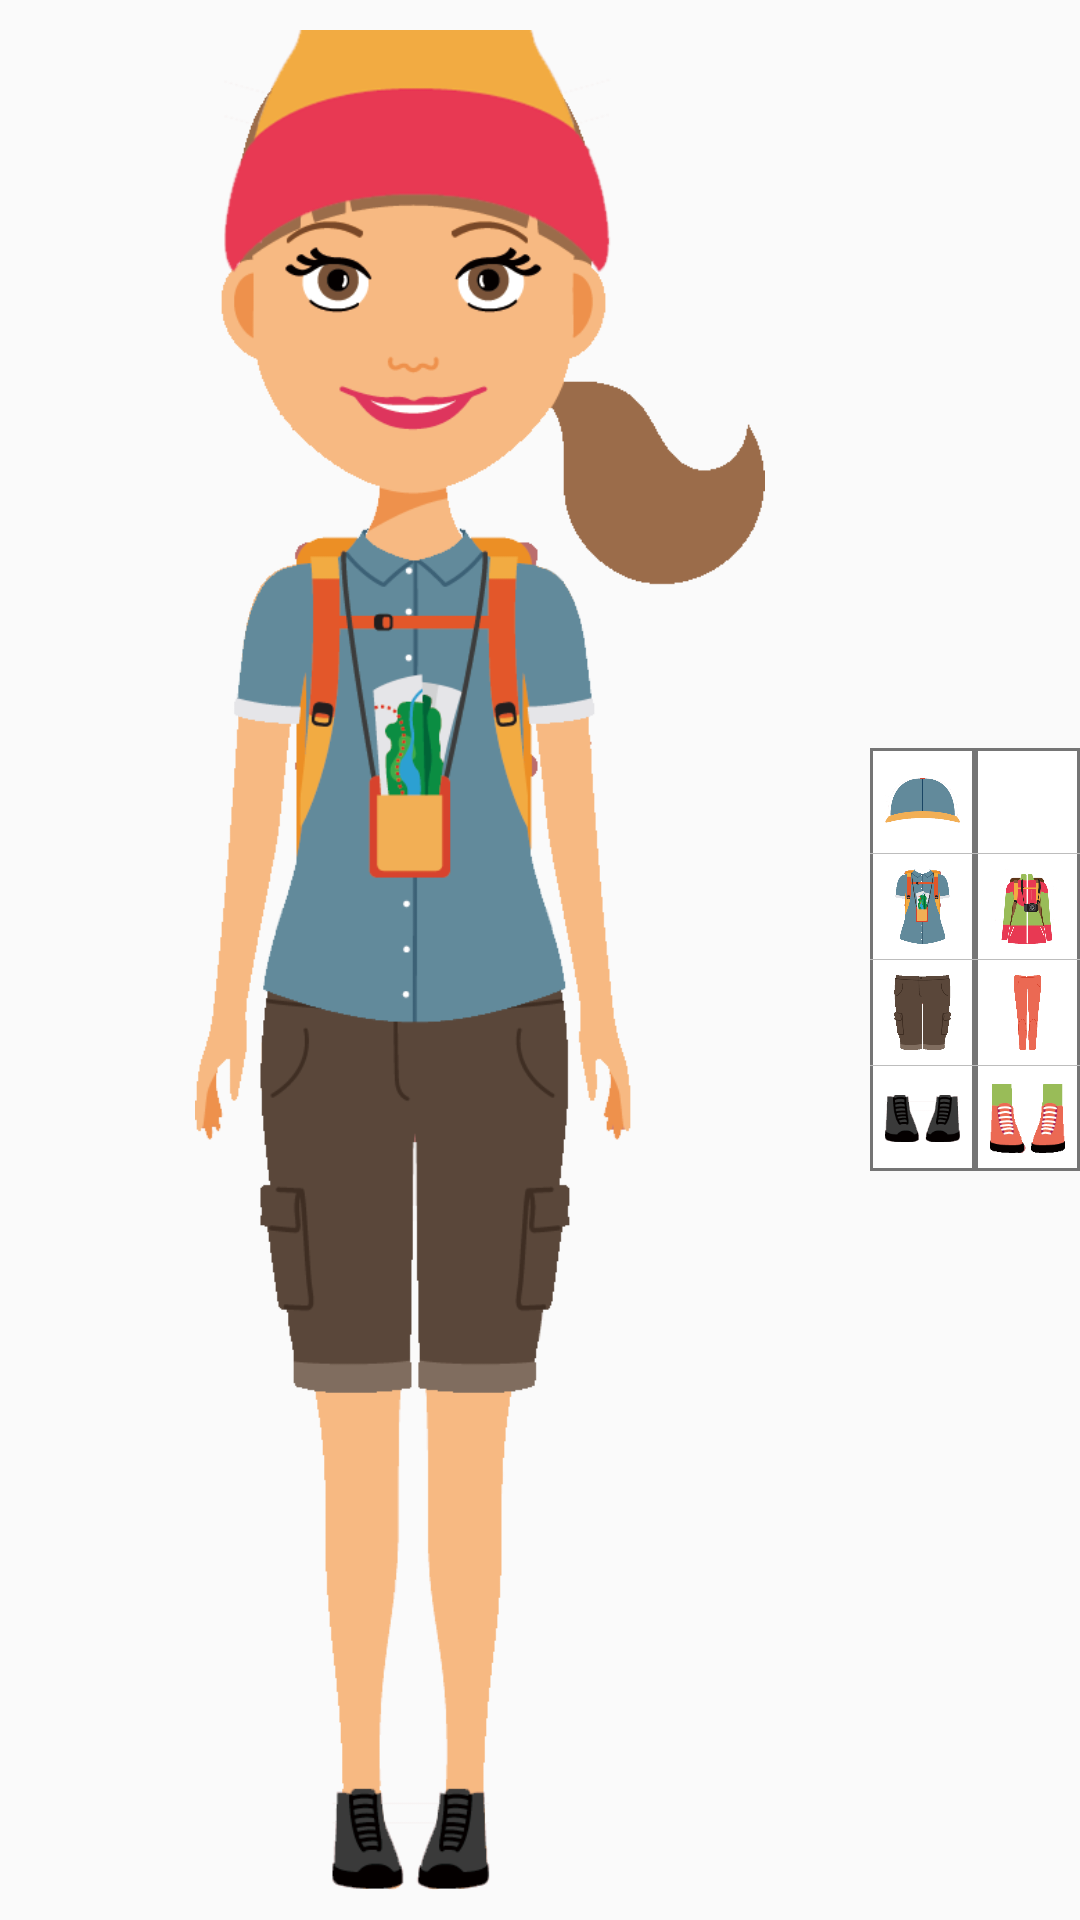

Named icons in this screenshot (1080×1920) and their centers, (x,y):
cap: (922,800)
shirt: (922,906), (1026,909)
shoes: (1027,1118), (922,1118)
trousers: (922,1012), (1027,1012)
